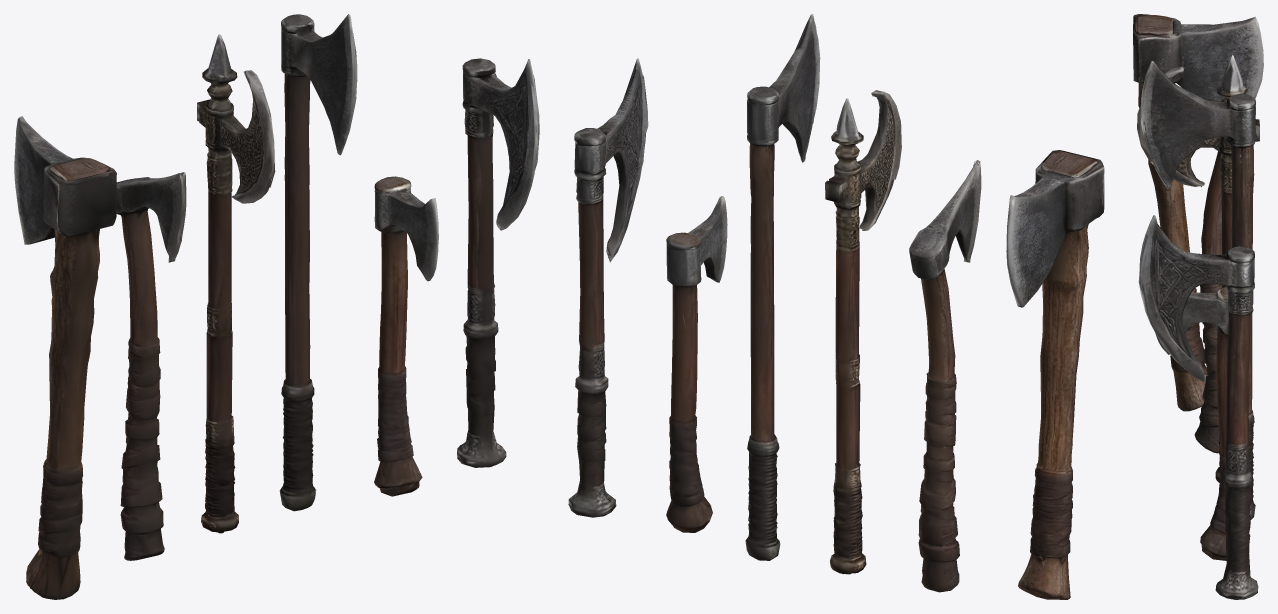
File: weapons_axes_single.glb
The picture shows the model from 3 angles, left to right: view 1: azimuth 30°, elevation 25°; view 2: azimuth 150°, elevation 25°; view 3: azimuth 270°, elevation 25°; orthographic projection. The views are drawn at different scales.
Parts seen in each view (by area): view 1: axe_felling, axe_dane, axe_tabar, axe_hatchet, axe_francisca, axe_bearded; view 2: axe_felling, axe_dane, axe_tabar, axe_hatchet, axe_francisca, axe_bearded; view 3: axe_hatchet, axe_felling, axe_dane, axe_bearded, axe_francisca, axe_tabar.
Part boxes in pixels (x1,y1,x2,y2): axe_felling: (14,116,116,599); axe_dane: (279,14,357,511); axe_tabar: (197,34,275,533); axe_hatchet: (457,58,539,467); axe_francisca: (116,172,186,560); axe_bearded: (374,176,438,496); axe_felling: (1006,150,1104,599); axe_dane: (745,14,820,560); axe_tabar: (825,90,901,574); axe_hatchet: (568,58,648,517); axe_francisca: (909,160,981,592); axe_bearded: (666,196,727,532); axe_hatchet: (1138,215,1258,599); axe_felling: (1133,14,1263,411); axe_dane: (1141,61,1255,519); axe_bearded: (1155,287,1228,560); axe_francisca: (1194,147,1221,453); axe_tabar: (1137,55,1259,482).
Size of the model in its own units: 0.5903 by 0.5998 by 0.1548.
Materials: 1 (1 with a texture image).
